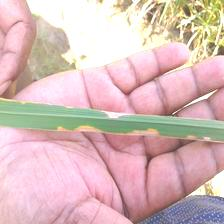2 BacterialBlight: (4, 93, 151, 124), (49, 120, 213, 147)
